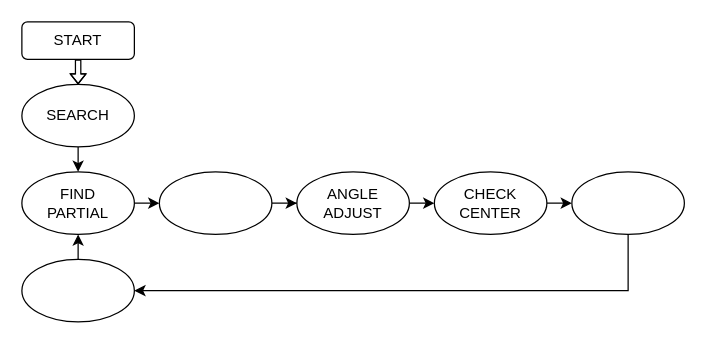
Some shapes in this 706 by 344 pixel diagram are drawn without their labels. Here are the shapes that lost their labels. From the top down, the centre of each, then its label:
At pixel 215 202: "FIND ALL".
At pixel 627 202: "APPROACH".
At pixel 77 290: "SEARCH2".
